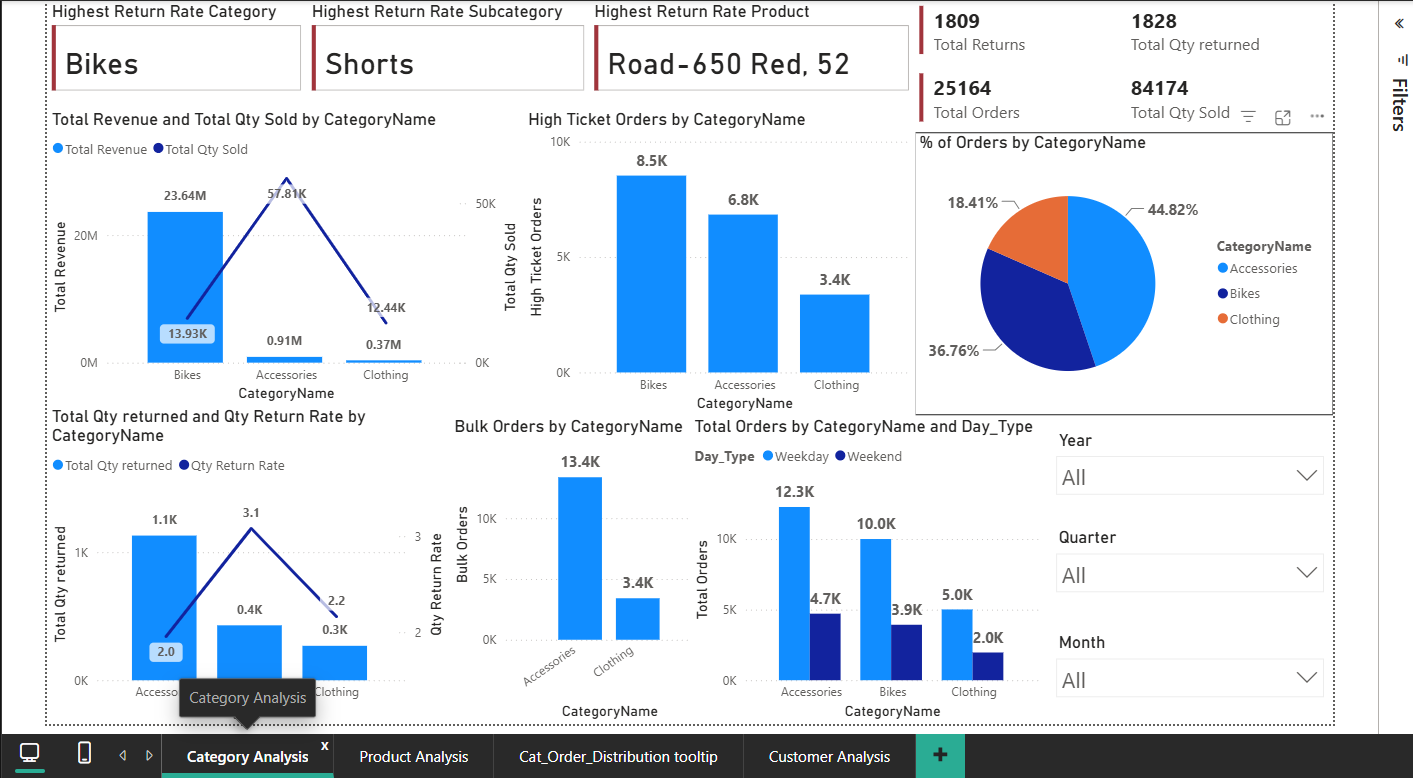

The dashboard page shown, as its layout file describes it:
{"tool":"powerbi","page":{"name":"Category Analysis","canvas":[1280,720],"ordinal":0},"visuals":[{"type":"lineClusteredColumnComboChart","fields":{"Category":["Products.CategoryName"],"Y":["Sales.Total Revenue"],"Y2":["Sales.Total Qty Sold"]},"box":[0,106.7,473.3,296.7],"z":0},{"type":"lineClusteredColumnComboChart","fields":{"Category":["Products.CategoryName"],"Y":["Sales.Total Qty returned"],"Y2":["Sales.Qty Return Rate"]},"box":[0,403.3,400,316.7],"z":1000},{"type":"cardVisual","title":"Highest Return Rate Category","fields":{"Data":["Min(Products.CategoryName)"]},"box":[0,0,258.3,95],"z":2000},{"type":"cardVisual","title":"Highest Return Rate Subcategory","fields":{"Data":["Min(Products.SubcategoryName)"]},"box":[258.3,0,281.7,95],"z":3000},{"type":"cardVisual","title":"Highest Return Rate Product","fields":{"Data":["Min(Products.ProductName)"]},"box":[540,0,323.3,95],"z":4000},{"type":"multiRowCard","fields":{"Values":["Sales.Total Returns","Sales.Total Qty returned"]},"box":[863.3,0,416.7,70],"z":5000},{"type":"multiRowCard","fields":{"Values":["Sales.Total Orders","Sales.Total Qty Sold"]},"box":[863.3,66.7,416.7,63.3],"z":6000},{"type":"clusteredColumnChart","fields":{"Category":["Products.CategoryName"],"Y":["Sales.Bulk Orders"]},"box":[400,413.3,268.3,306.7],"z":7000},{"type":"pieChart","fields":{"Y":["Sales.% of Orders"],"Category":["Products.CategoryName"]},"box":[863.3,145,416.7,258.3],"z":8000},{"type":"clusteredColumnChart","fields":{"Category":["Products.CategoryName"],"Y":["Sales.High Ticket Orders"]},"box":[473.3,106.7,390,306.7],"z":9000},{"type":"clusteredColumnChart","fields":{"Category":["Products.CategoryName"],"Y":["Sales.Total Orders"],"Series":["Calendar Table.Day_Type"]},"box":[640,413.3,353.3,306.7],"z":10000},{"type":"slicer","fields":{"Values":["Calendar Table.Year"]},"box":[993.3,413.3,286.7,96.7],"z":11000},{"type":"slicer","fields":{"Values":["Calendar Table.Date.Variation.Date Hierarchy.Quarter"]},"box":[993.3,496.7,286.7,96.7],"z":12000},{"type":"slicer","fields":{"Values":["Calendar Table.Date.Variation.Date Hierarchy.Month"]},"box":[993.3,608.3,286.7,96.7],"z":13000}]}

Visuals, with their boxes on the page's 1280x720 design canvas (x1, y1, x2, y2). These are canvas units, not pixel positions in the 1413x778 screenshot, which may show the page scaled, cropped or inside an application window:
lineClusteredColumnComboChart - Products.CategoryName x Sales.Total Revenue: 0,107,473,403
lineClusteredColumnComboChart - Products.CategoryName x Sales.Total Qty returned: 0,403,400,720
"Highest Return Rate Category" cardVisual: 0,0,258,95
"Highest Return Rate Subcategory" cardVisual: 258,0,540,95
"Highest Return Rate Product" cardVisual: 540,0,863,95
multiRowCard - Sales.Total Returns x Sales.Total Qty returned: 863,0,1280,70
multiRowCard - Sales.Total Orders x Sales.Total Qty Sold: 863,67,1280,130
clusteredColumnChart - Products.CategoryName x Sales.Bulk Orders: 400,413,668,720
pieChart - Sales.% of Orders x Products.CategoryName: 863,145,1280,403
clusteredColumnChart - Products.CategoryName x Sales.High Ticket Orders: 473,107,863,413
clusteredColumnChart - Products.CategoryName x Sales.Total Orders: 640,413,993,720
slicer - Calendar Table.Year: 993,413,1280,510
slicer - Calendar Table.Date.Variation.Date Hierarchy.Quarter: 993,497,1280,593
slicer - Calendar Table.Date.Variation.Date Hierarchy.Month: 993,608,1280,705
